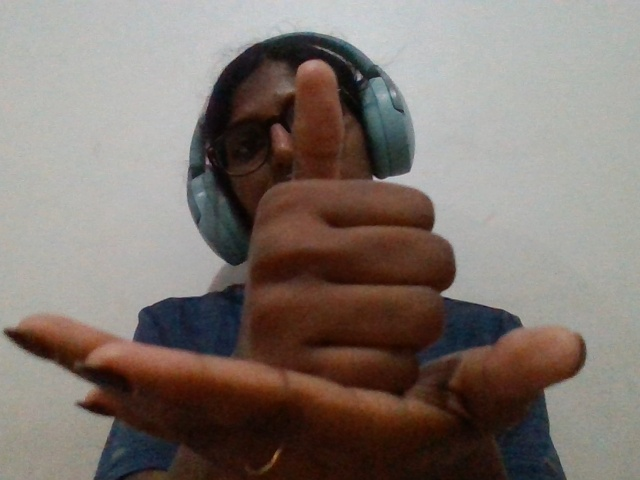Help: (3, 37, 622, 480)
